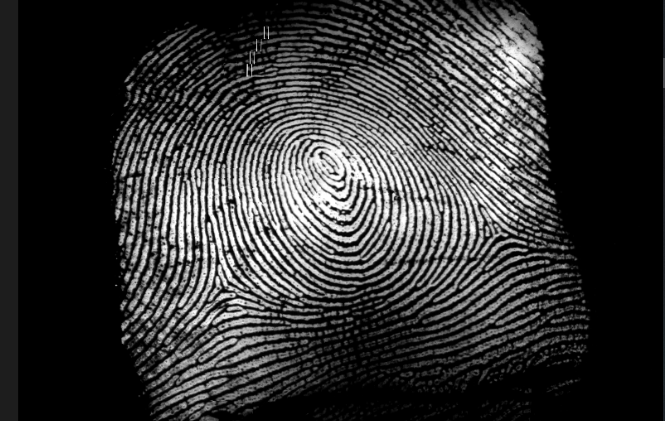deltas: (190, 257, 259, 320), (465, 202, 529, 260)
nucleo: (299, 135, 362, 196)
